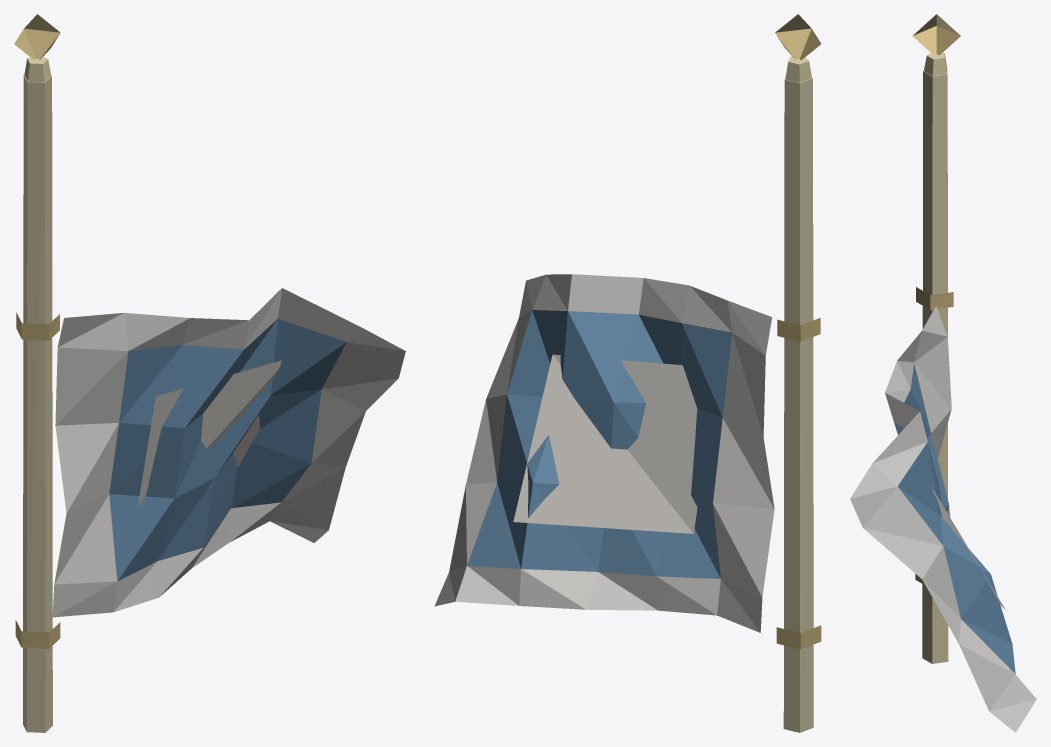
The model's file is flag.square.qingqi__pole.stick.mugun__midmast.glb.
The picture shows the model from 3 angles, left to right: view 1: azimuth 30°, elevation 25°; view 2: azimuth 150°, elevation 25°; view 3: azimuth 270°, elevation 25°; orthographic projection. The views are drawn at different scales.
Visible parts, largest first — view 1: flag.square.qingqi; view 2: flag.square.qingqi; view 3: flag.square.qingqi.
Boxes of the visible parts, <box> form: flag.square.qingqi: <box>14,14,405,732</box>; flag.square.qingqi: <box>434,14,821,732</box>; flag.square.qingqi: <box>850,14,1036,732</box>.
Bounding box in the file's own units: 1.05 × 2.08 × 0.5482.
